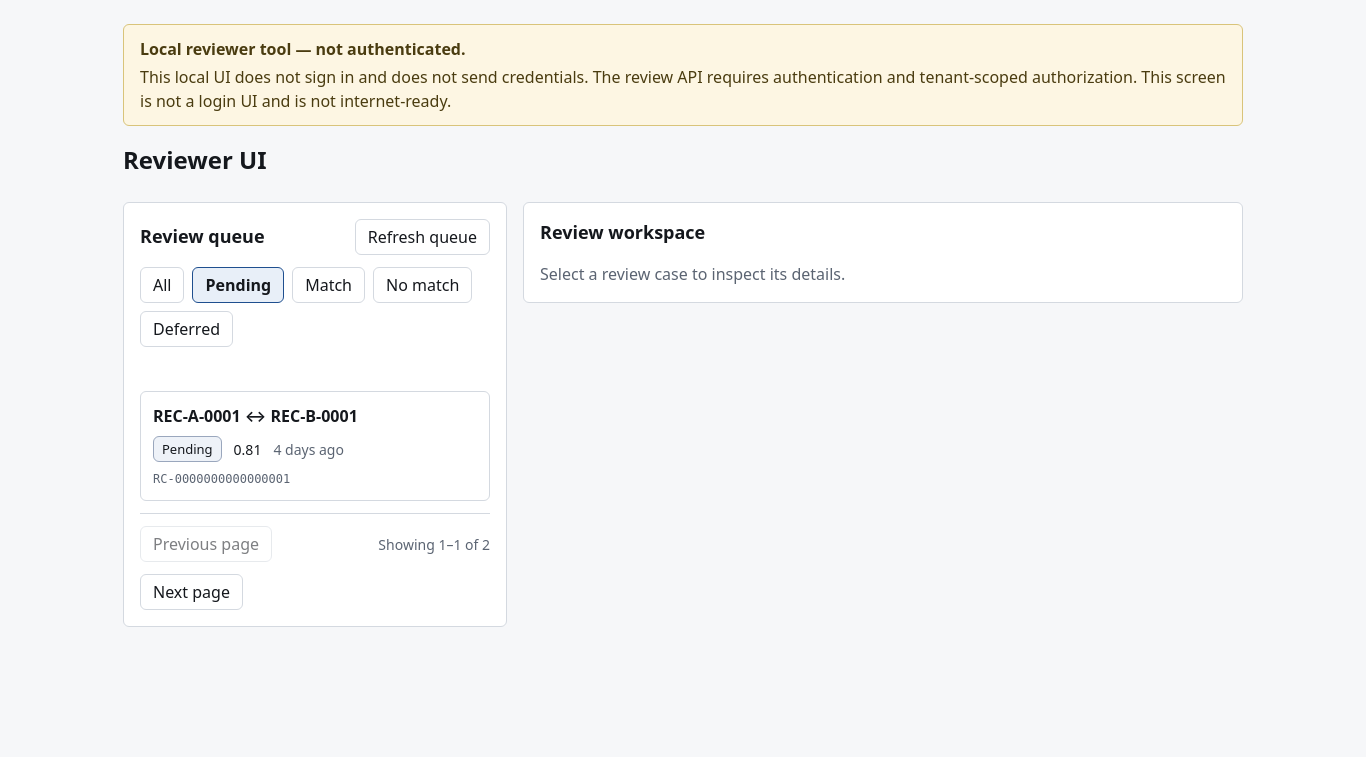
Test: selecting a case › keeps the case open across a filter change
The image size is (1366, 757).
Click the button that starts with "REC-A-0001": (315, 446) [140,391,490,501]
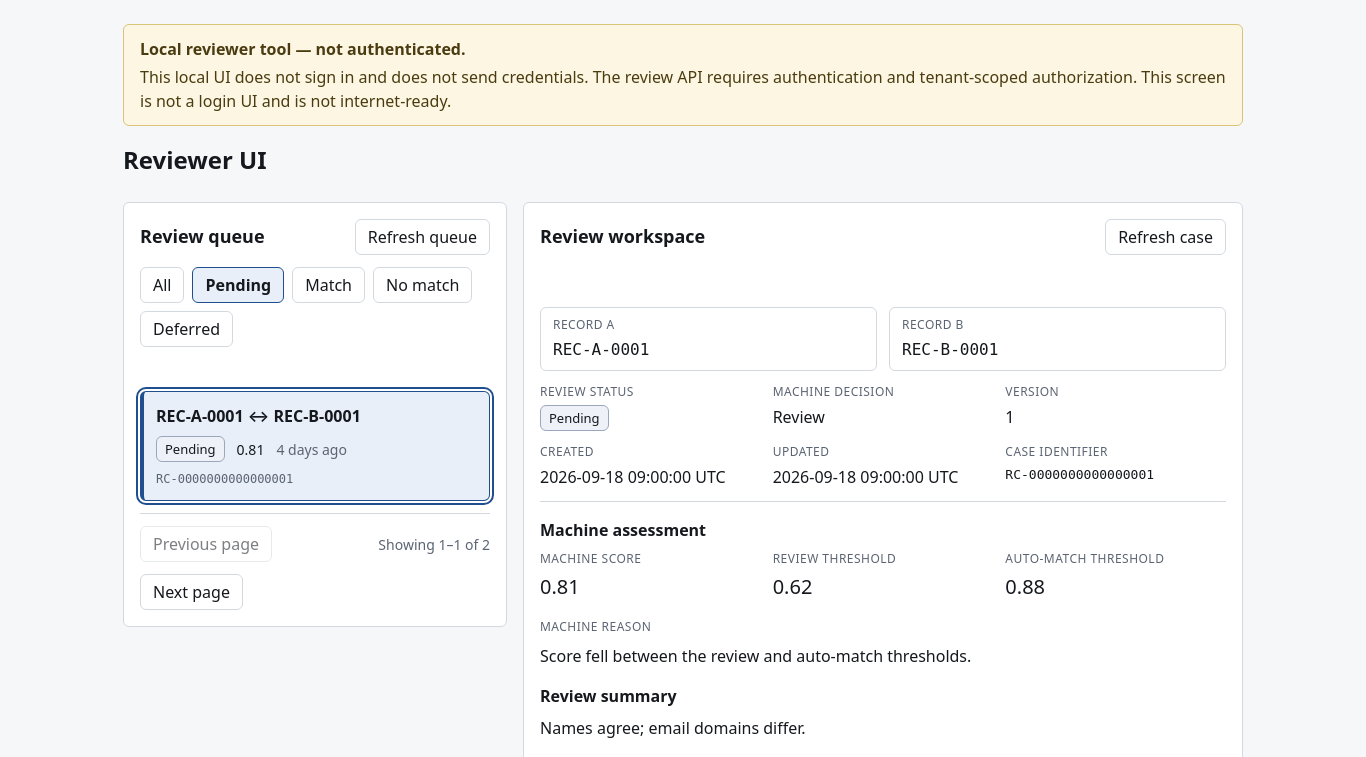
Now the heading "Machine assessment" is shown, box [540,519,706,541]
Click the button "Deferred": (186, 329) [140,311,233,347]
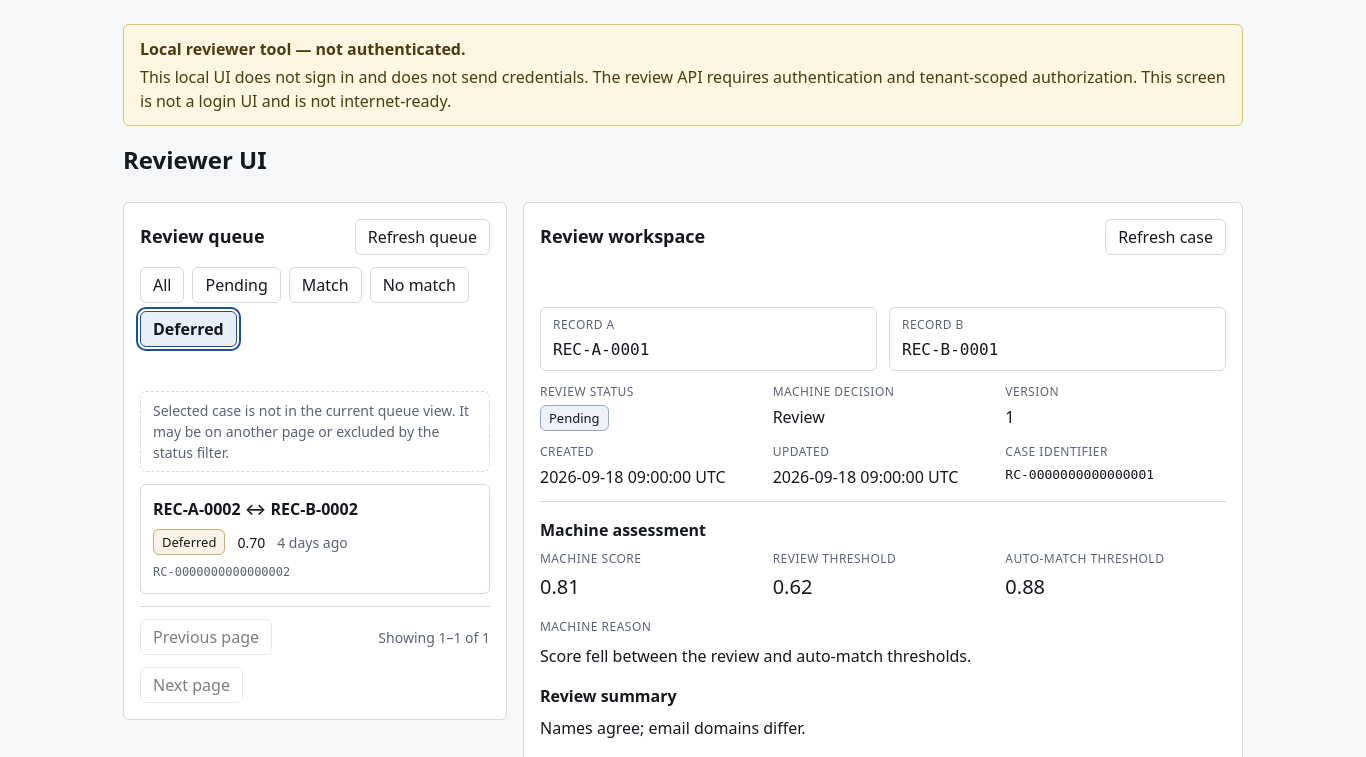
Expected: the text "REC-A-0001" is shown, [553,340,649,359]
Now the text "not in the current queue view" is shown, box [153,401,469,462]
